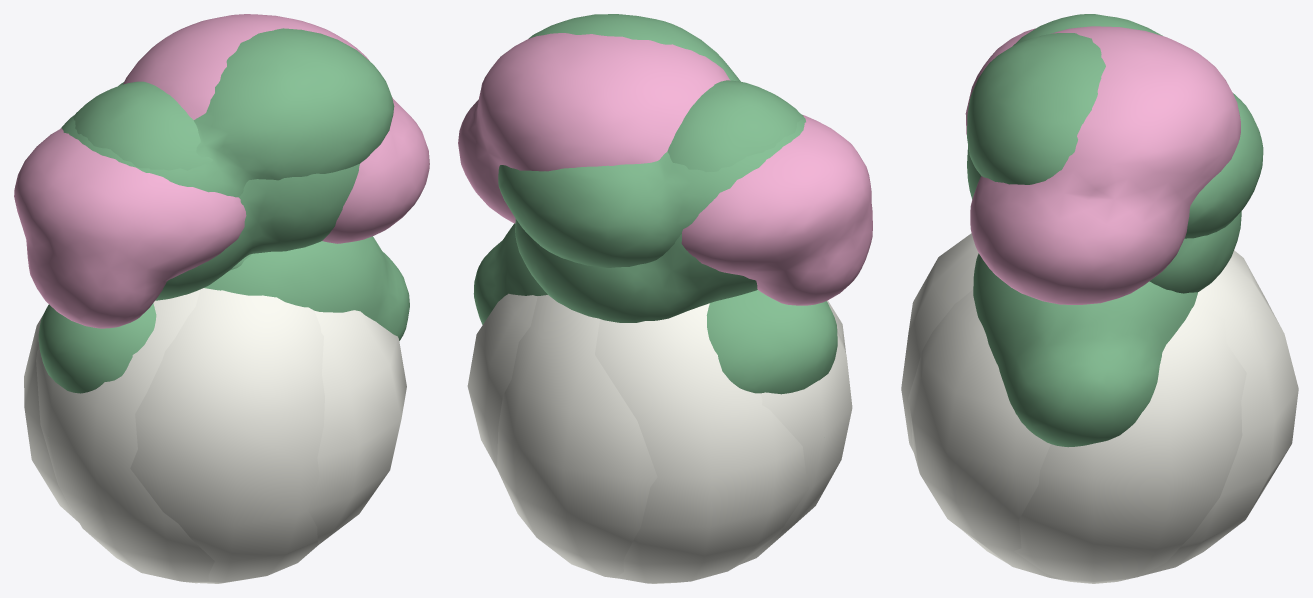
Rendered from rounded_library.glb.
3 views of the same model, side by side, from view 1: azimuth 30°, elevation 25°; view 2: azimuth 150°, elevation 25°; view 3: azimuth 270°, elevation 25° (orthographic). The views are drawn at different scales.
Parts seen in each view (by area): view 1: Petal, PlumCrown, Lobe, OakCrown, Bush, WillowCrown; view 2: PlumCrown, Petal, Lobe, OakCrown, WillowCrown, Bush; view 3: PlumCrown, Petal, Lobe, Bush, OakCrown, WillowCrown.
Part boxes in pixels (x1,y1,x2,y2): Petal: (24,288,324,583); PlumCrown: (14,14,429,328); Lobe: (36,289,406,583); OakCrown: (60,28,394,197); Bush: (38,236,409,393); WillowCrown: (73,81,359,300); PlumCrown: (458,33,872,305); Petal: (467,293,845,583); Lobe: (497,295,852,578); OakCrown: (498,14,805,267); WillowCrown: (515,80,803,322); Bush: (473,223,837,394); PlumCrown: (965,26,1240,304); Petal: (901,233,1267,582); Lobe: (908,261,1298,583); Bush: (973,253,1197,447); OakCrown: (967,33,1263,238); WillowCrown: (967,14,1241,293).
Bounding box in the file's own units: 1.19 × 1.53 × 1.01.
